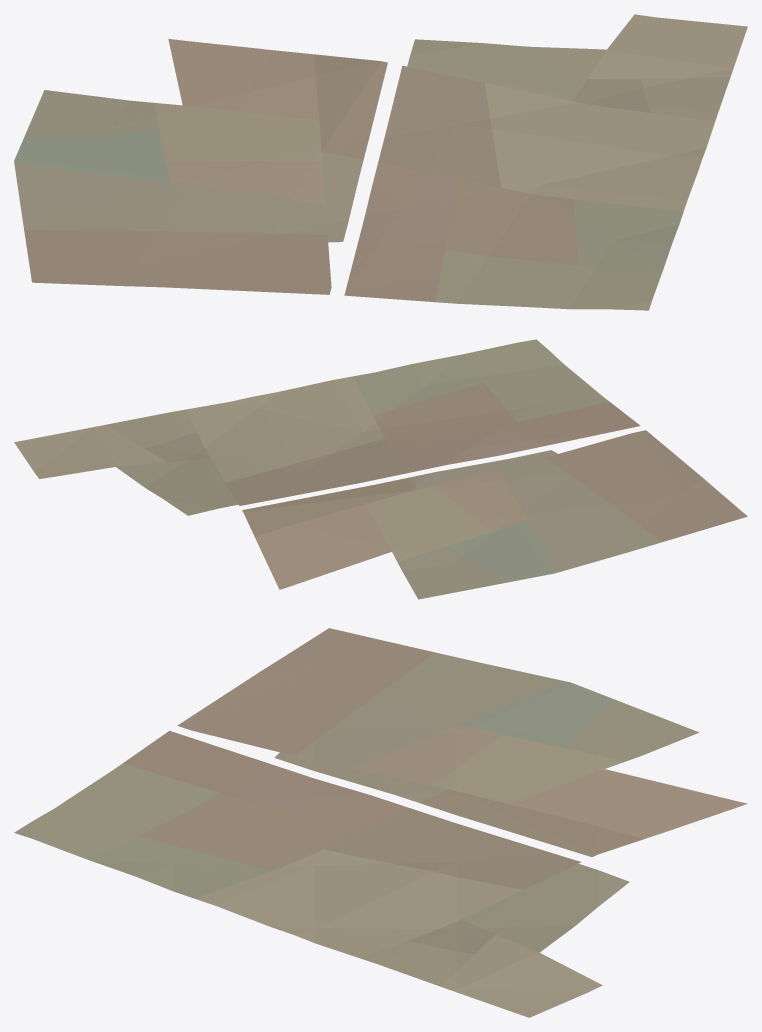
The model's file is farm_15_22_soil.glb.
3 views of the same model, one above another, from view 1: azimuth 30°, elevation 25°; view 2: azimuth 150°, elevation 25°; view 3: azimuth 270°, elevation 25° (orthographic). The views are drawn at different scales.
Visible parts, largest first — view 1: geometry_0; view 2: geometry_0; view 3: geometry_0.
Part boxes in pixels (x1,y1,x2,y2): geometry_0: (14, 14, 747, 310); geometry_0: (14, 339, 747, 599); geometry_0: (14, 628, 747, 1017).
Bounding box in the file's own units: 490 × 15.05 × 415.
